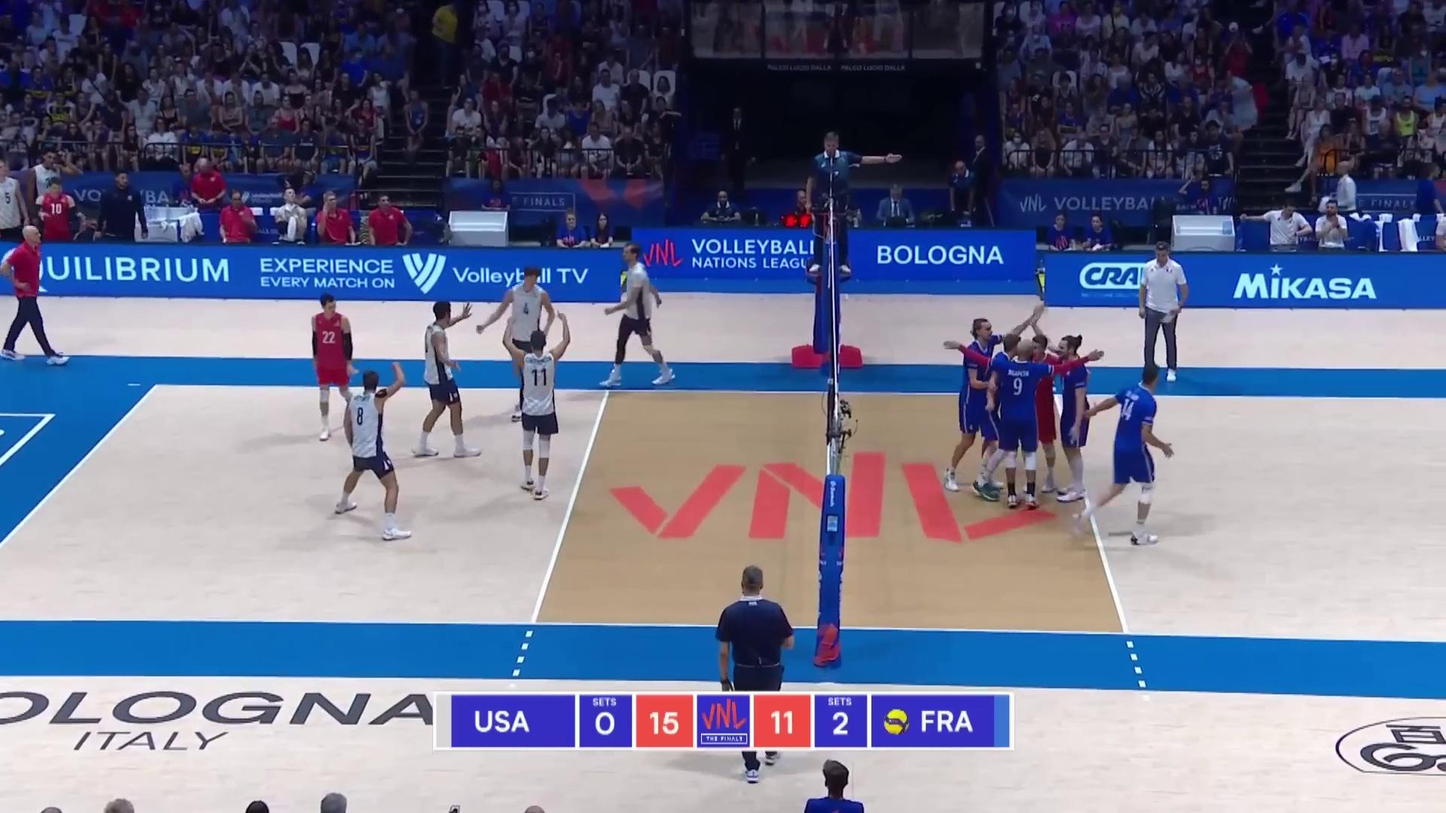player: (1081, 371, 1174, 542), (987, 341, 1061, 512), (339, 364, 409, 539), (506, 313, 571, 498), (944, 320, 1007, 493), (606, 249, 678, 388), (493, 266, 553, 419), (419, 303, 478, 458), (1010, 336, 1066, 490), (974, 335, 1019, 501), (1053, 334, 1092, 499), (313, 297, 356, 443)
refree: (713, 569, 793, 784), (804, 130, 865, 273)
